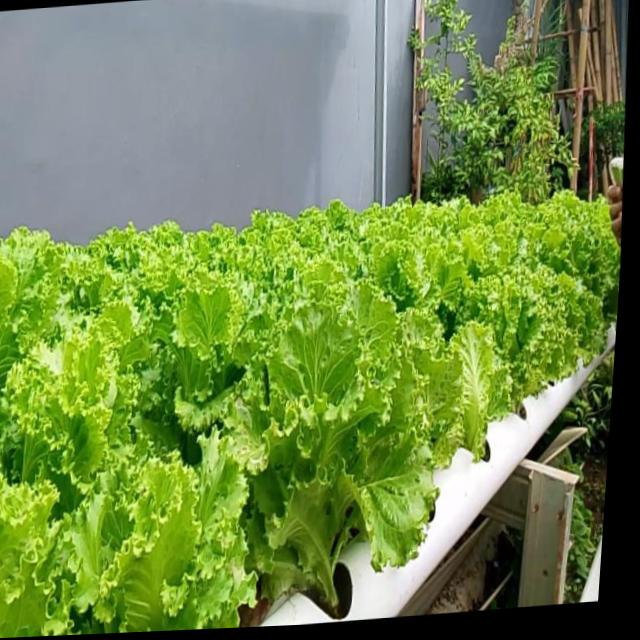Mature: (238, 290, 459, 622), (477, 261, 583, 426)
